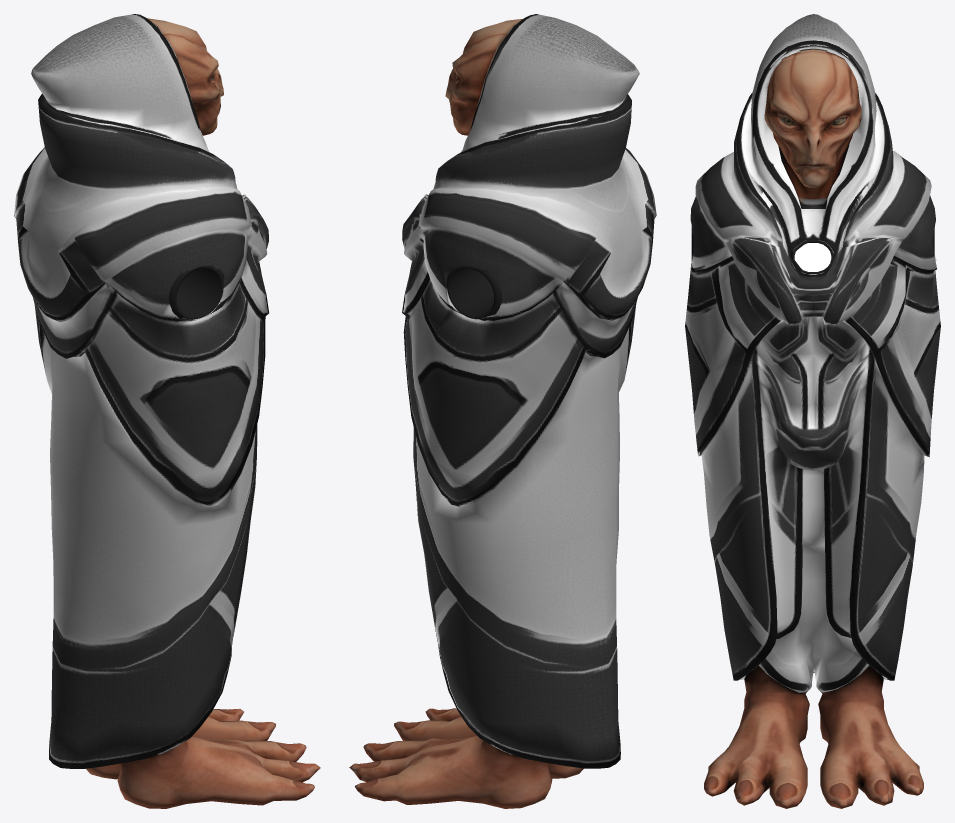
The model's file is fuzeball_alienTamirok.glb.
The picture shows the model from 3 angles, left to right: view 1: azimuth 30°, elevation 25°; view 2: azimuth 150°, elevation 25°; view 3: azimuth 270°, elevation 25°; orthographic projection. The views are drawn at different scales.
Visible parts, largest first — view 1: tripo_node_20a3d88b-a865-4c3f-bb26-23a1796529a6.001; view 2: tripo_node_20a3d88b-a865-4c3f-bb26-23a1796529a6.001; view 3: tripo_node_20a3d88b-a865-4c3f-bb26-23a1796529a6.001.
Boxes of the visible parts, <box> form: tripo_node_20a3d88b-a865-4c3f-bb26-23a1796529a6.001: <box>14,14,320,808</box>; tripo_node_20a3d88b-a865-4c3f-bb26-23a1796529a6.001: <box>349,14,656,808</box>; tripo_node_20a3d88b-a865-4c3f-bb26-23a1796529a6.001: <box>685,14,940,808</box>.
Size of the model in its own units: 4.24 by 11.98 by 3.91.
Materials: 5 (2 with a texture image).
